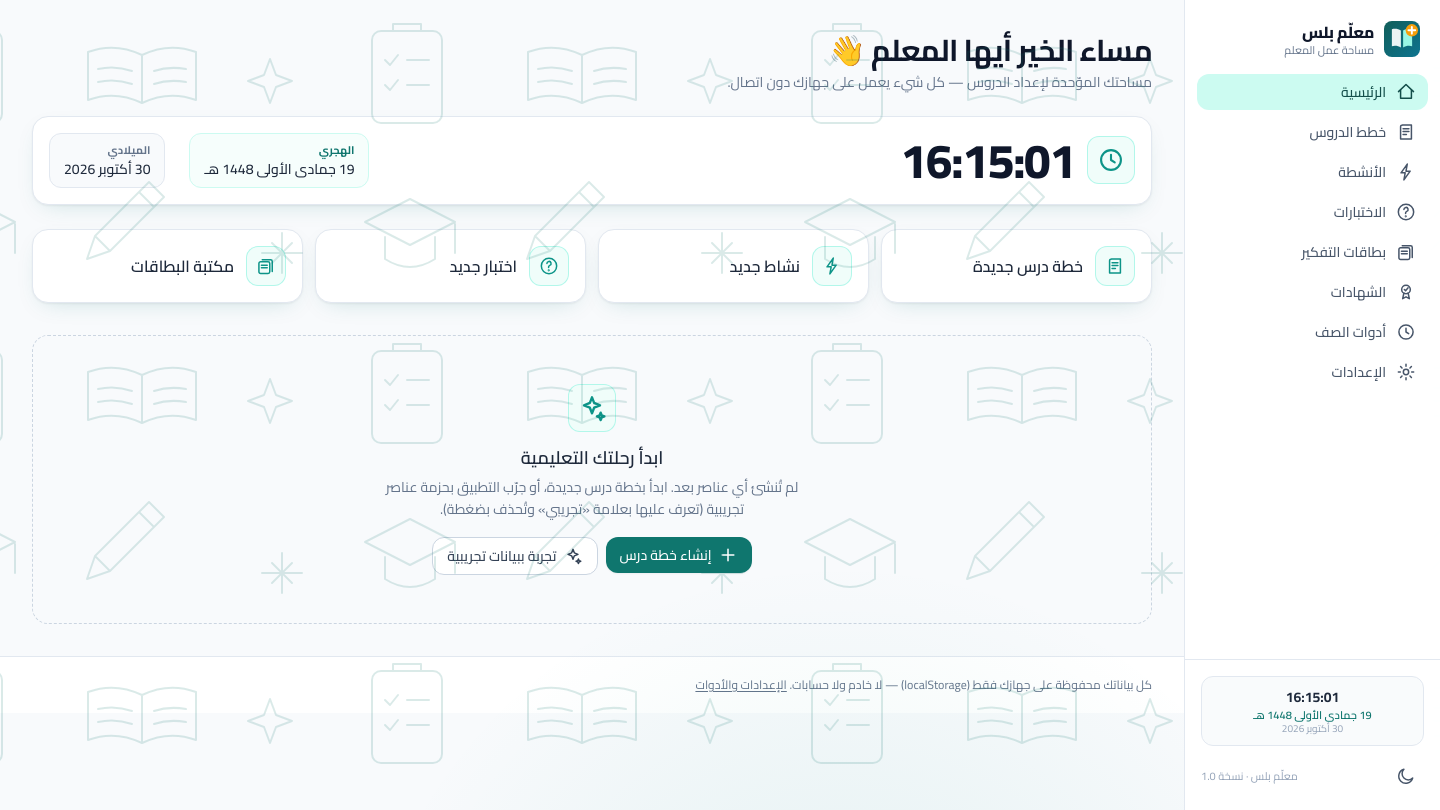
Test: التنقل بين الشاشات › الانتقال إلى قائمة الخطط يعرض الحالة الفارغة وزر الإنشاء
This screenshot has width=1440, height=810.
Click the link "خطط الدروس". click: (1363, 132)
box: [1309,119,1416,145]
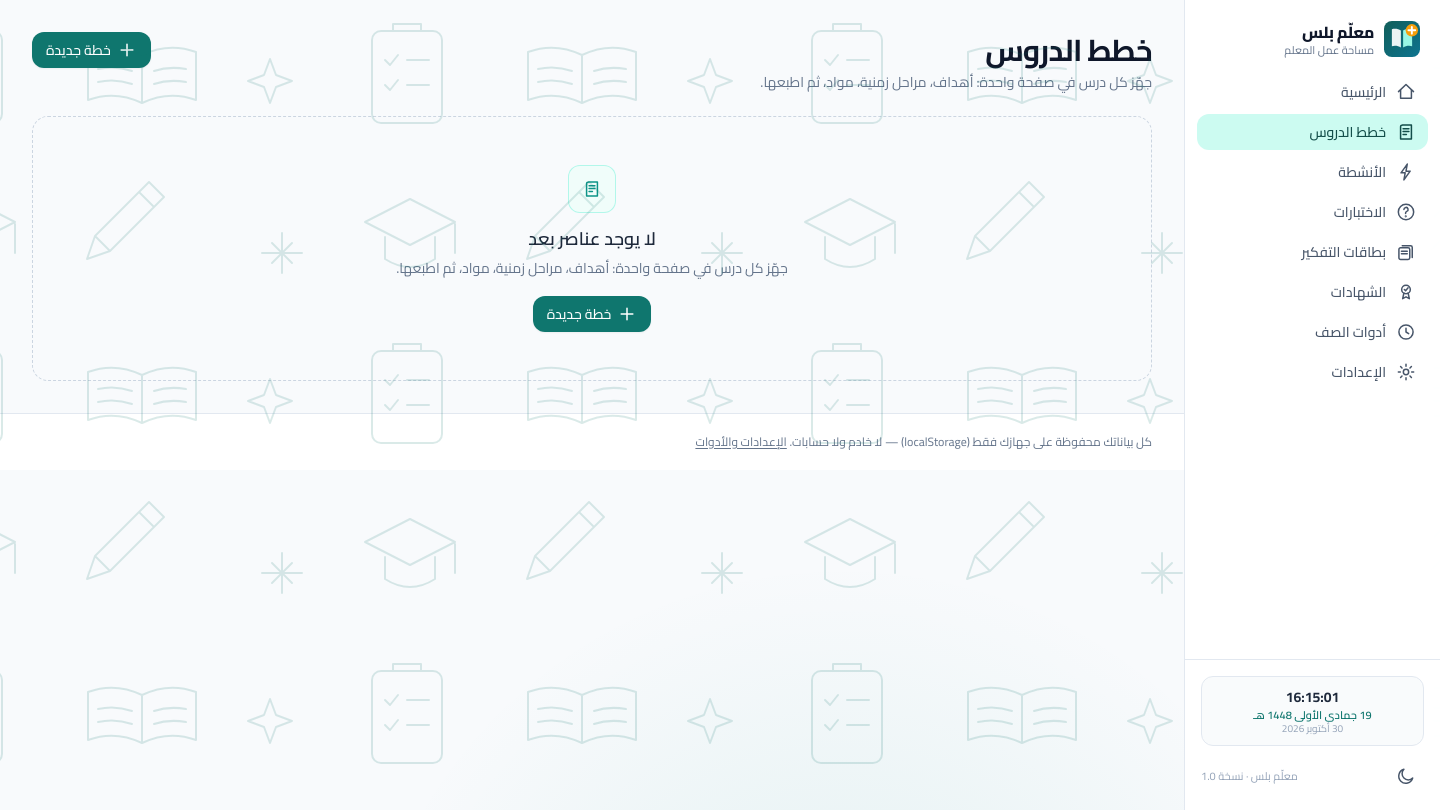
Expected: the heading "لا يوجد عناصر بعد" is shown, [528,225,656,253]
